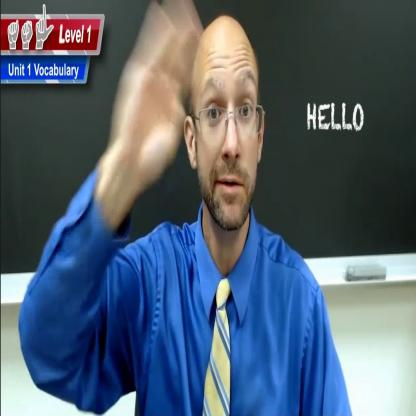Hello: (92, 1, 272, 277)
